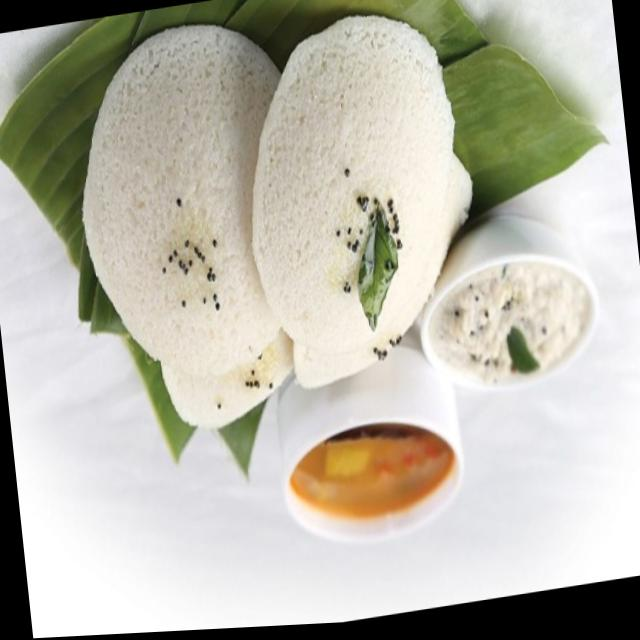IDLI: (81, 15, 469, 427)
SAMBAR: (290, 427, 451, 517)
WHITE CHUTNEY: (427, 240, 589, 386)
